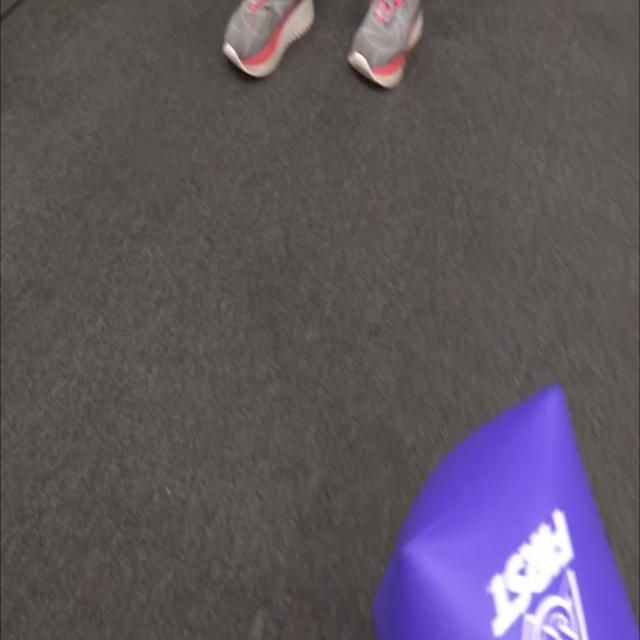frc_cube: (367, 389, 640, 640)
